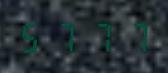five: (18, 20, 50, 53)
seven: (51, 20, 83, 53), (84, 20, 116, 53), (117, 20, 149, 53)
